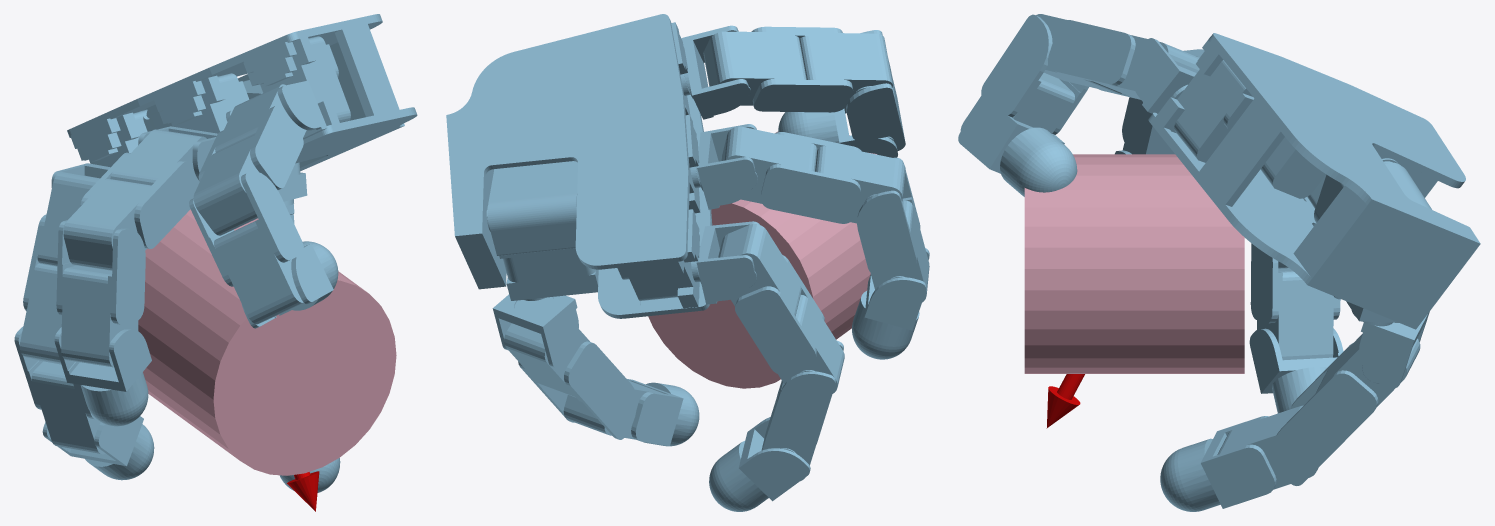
3 views of the same model, side by side, from view 1: azimuth 30°, elevation 25°; view 2: azimuth 150°, elevation 25°; view 3: azimuth 270°, elevation 25° (orthographic). The views are drawn at different scales.
Visible parts, largest first — view 1: world, cylinder_medium.stl; view 2: world, cylinder_medium.stl; view 3: world, cylinder_medium.stl.
Part boxes in pixels (x1,y1,x2,y2): world: (14,14,417,511); cylinder_medium.stl: (138,209,396,475); world: (446,14,929,511); cylinder_medium.stl: (648,131,876,388); world: (958,14,1480,511); cylinder_medium.stl: (1024,154,1244,373).
Bounding box in the file's own units: 0.1799 × 0.1894 × 0.1901.
